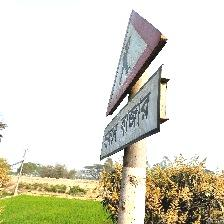Market-in-front: (102, 10, 170, 161)
